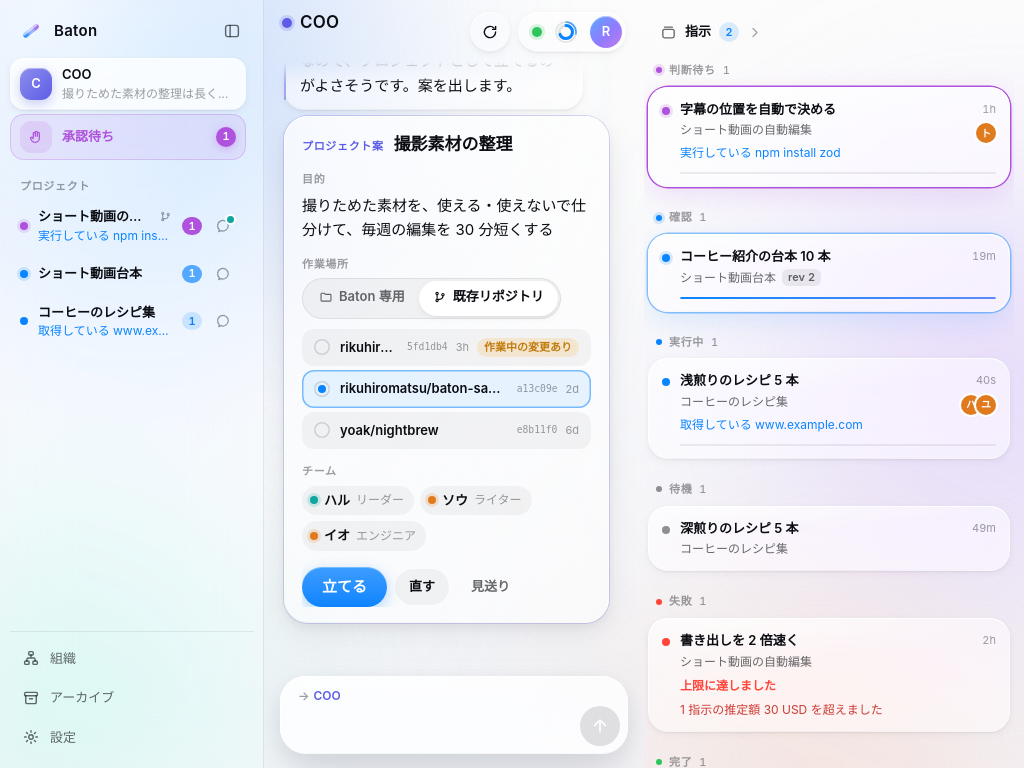
Scenario: F7 固定文言 › ホーム（会話・プロジェクト案・カード・サイドパネル）・メニュー・使用量
The image size is (1024, 768).
(page scrolled)
Check: the element with test id "proposal-card" is shown, box [284, 116, 609, 623]
Click the button with test id "menu-button" at x=606, y=32, box [590, 16, 622, 48]
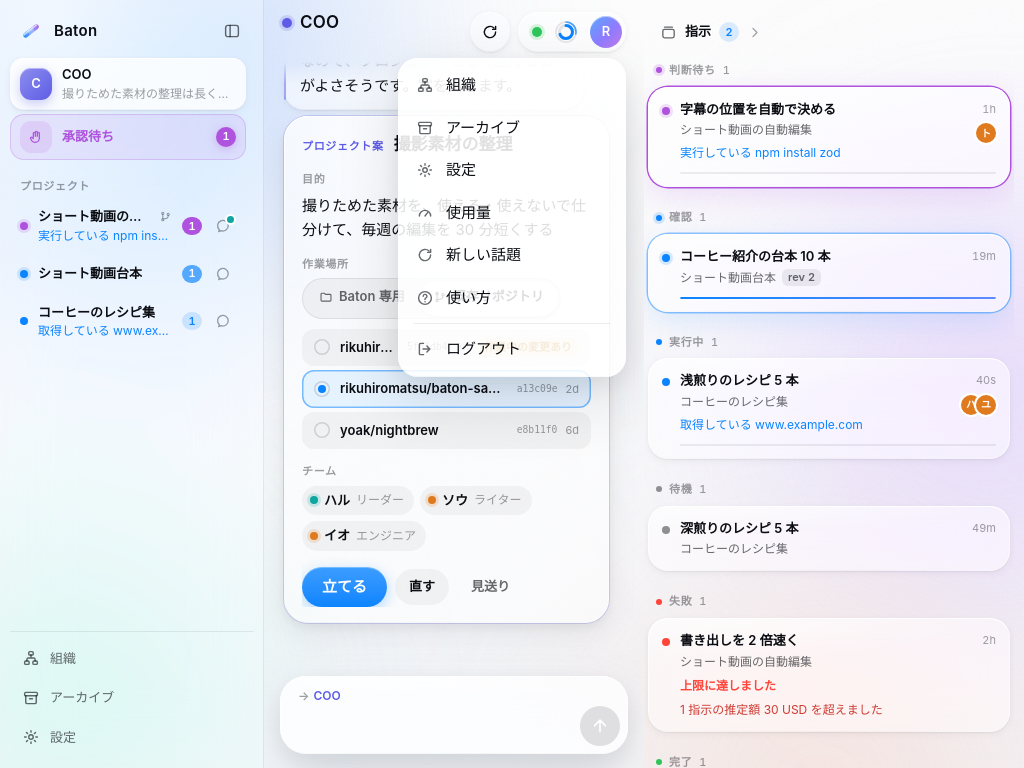
Check: the menu item with test id "menu-logout" is shown, box [404, 328, 620, 370]
Click the menu item with test id "menu-usage" at x=512, y=213, box [404, 192, 620, 234]
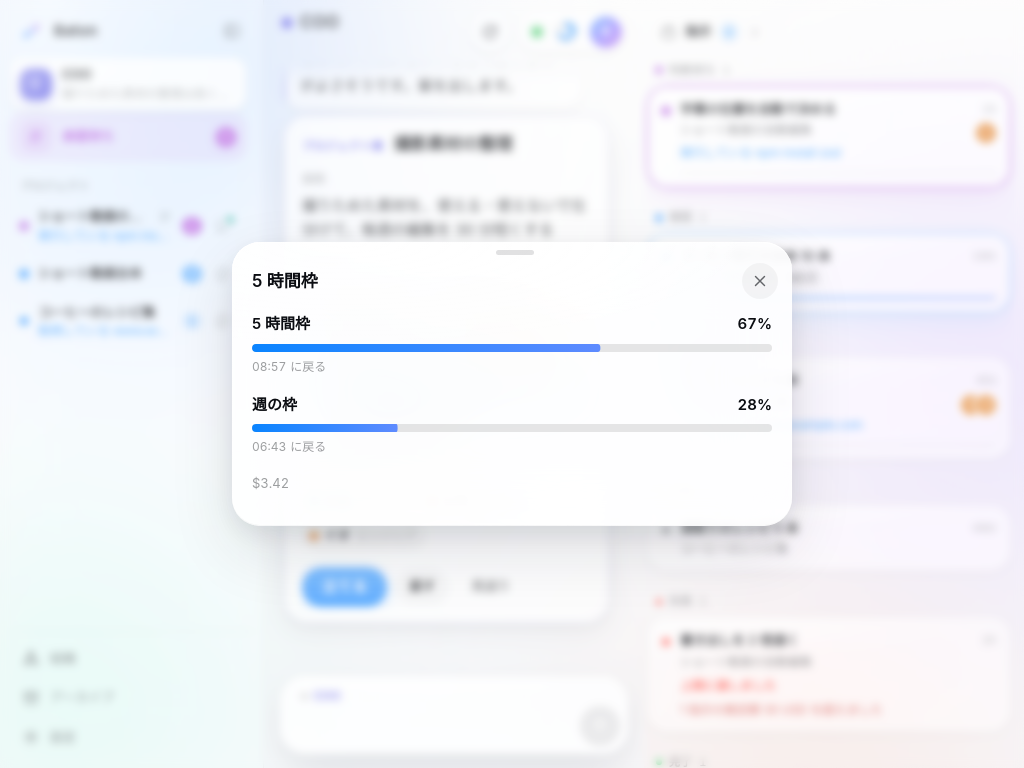
Check: the dialog with test id "quota-sheet" that starts with "5 時間枠" is shown, box [232, 242, 792, 526]
